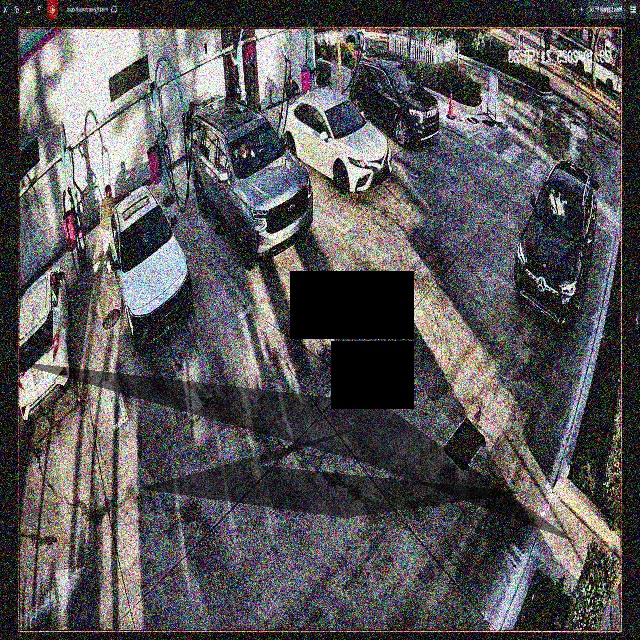Car: (188, 97, 310, 272), (110, 187, 190, 347), (280, 88, 390, 194)
